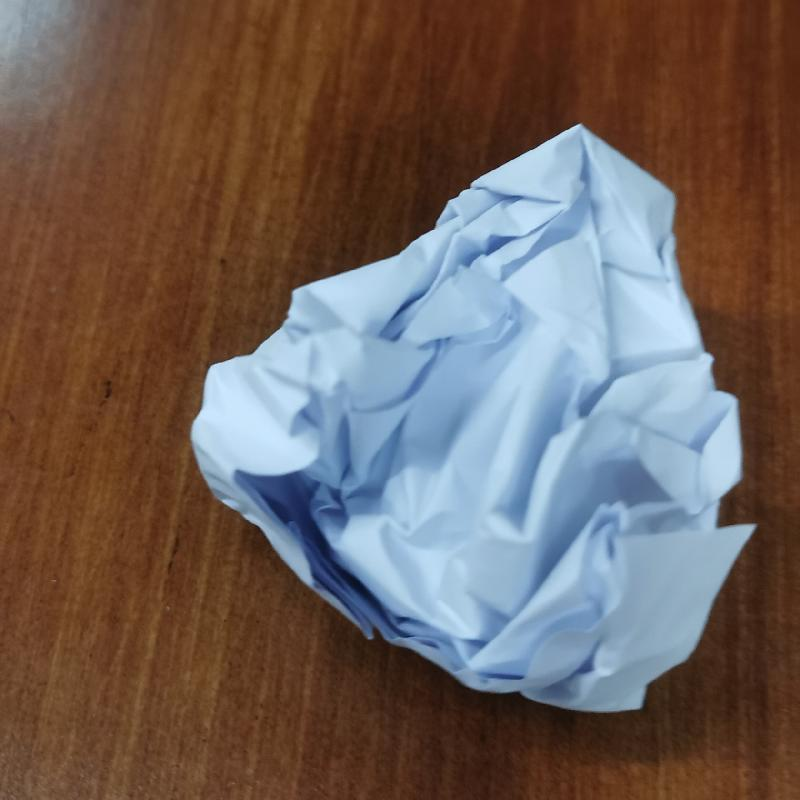spitball: (181, 117, 762, 719)
